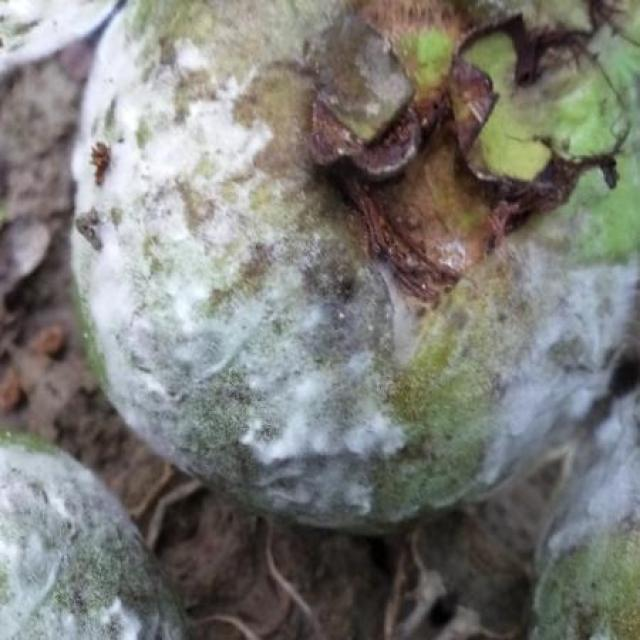Phytopthora: (71, 0, 640, 640), (1, 446, 184, 639)
